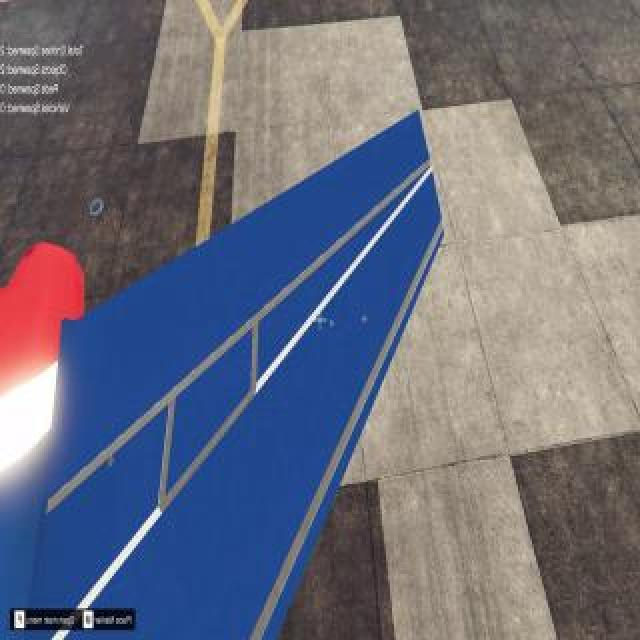crack: (107, 455, 115, 471), (329, 320, 337, 332), (360, 313, 368, 323)
